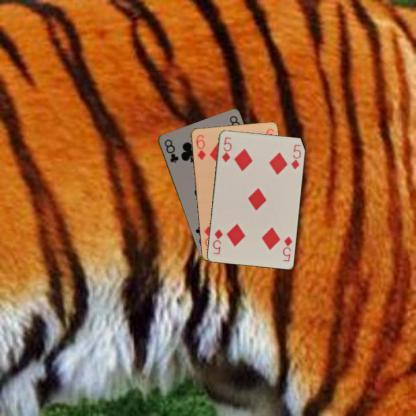5d: (219, 134, 233, 163), (280, 233, 294, 262)
6d: (192, 132, 206, 160)
8c: (161, 136, 180, 164)
